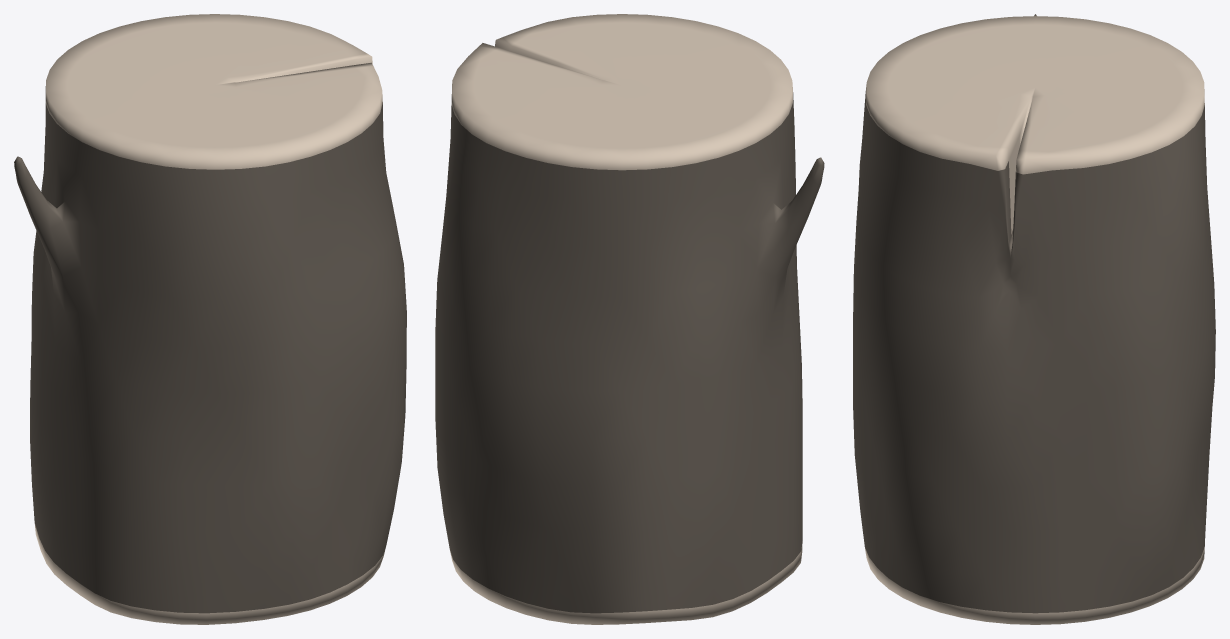
File: wooden_base.fbx
The picture shows the model from 3 angles, left to right: view 1: azimuth 30°, elevation 25°; view 2: azimuth 150°, elevation 25°; view 3: azimuth 270°, elevation 25°; orthographic projection.
Parts seen in each view (by area): view 1: pCylinder1; view 2: pCylinder1; view 3: pCylinder1.
Part boxes in pixels (left/top/right/bottom): pCylinder1: left=14, top=14, right=406, bottom=624; pCylinder1: left=435, top=14, right=824, bottom=624; pCylinder1: left=853, top=14, right=1215, bottom=624.
Bounding box in the file's own units: 1.2 × 1.5 × 1.06.
